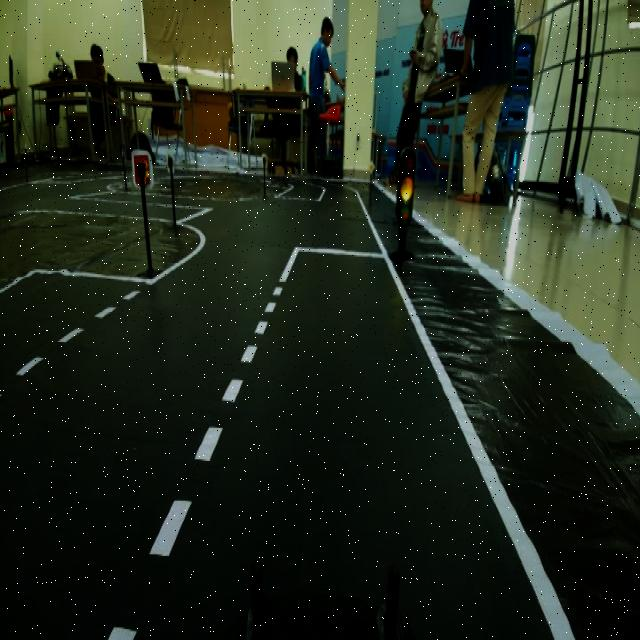trafficlight: (378, 135, 426, 277)
